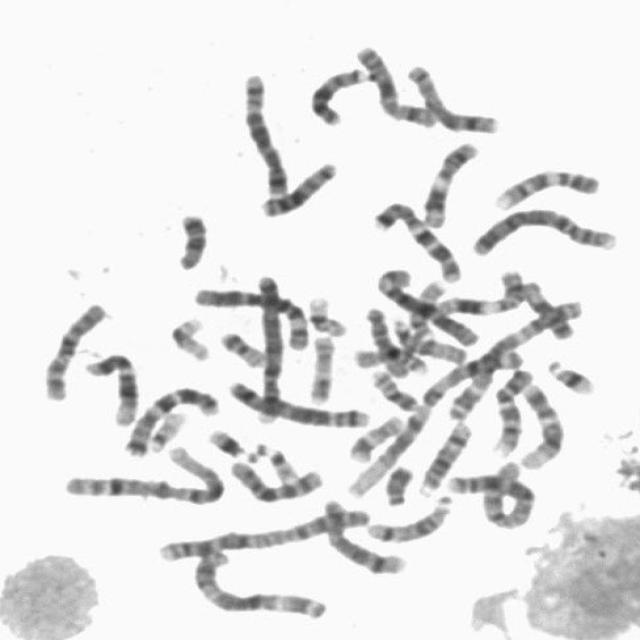A1: (338, 346, 534, 502), (55, 439, 227, 506)
A2: (150, 498, 376, 564), (439, 460, 539, 530)
A3: (438, 288, 585, 423), (185, 540, 332, 621)
B4: (466, 200, 622, 256), (249, 266, 286, 426)
B5: (223, 373, 374, 429), (235, 64, 294, 198)
C10: (36, 294, 110, 403), (223, 453, 328, 504)
C11: (416, 134, 482, 229), (432, 263, 527, 318)
C12: (77, 344, 142, 428), (513, 376, 568, 470)
C6: (370, 260, 484, 347), (188, 279, 314, 352)
C7: (366, 193, 464, 282), (117, 378, 223, 457)
C8: (316, 492, 411, 576), (400, 57, 502, 135)
C9: (486, 161, 604, 211), (486, 361, 536, 456)
D13: (253, 153, 341, 218), (303, 59, 374, 127)
D14: (412, 414, 476, 496), (361, 489, 455, 544)
D15: (384, 312, 471, 365), (359, 300, 413, 380)
E16: (346, 340, 430, 376), (405, 274, 449, 340)
E17: (342, 407, 407, 464), (300, 328, 337, 405)
E18: (514, 274, 578, 342), (169, 204, 211, 271)
F19: (162, 310, 214, 363), (302, 290, 352, 338)
F20: (365, 363, 422, 413), (214, 323, 270, 368)
G21: (542, 352, 600, 396), (202, 421, 257, 462)
G22: (254, 438, 302, 485), (142, 405, 188, 453)
X: (349, 38, 439, 130)
Y: (378, 456, 417, 506)
